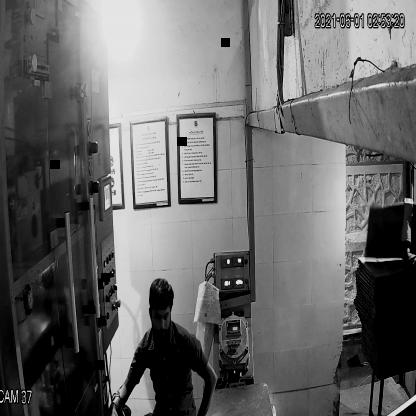no_goggles: (149, 303, 173, 327)
